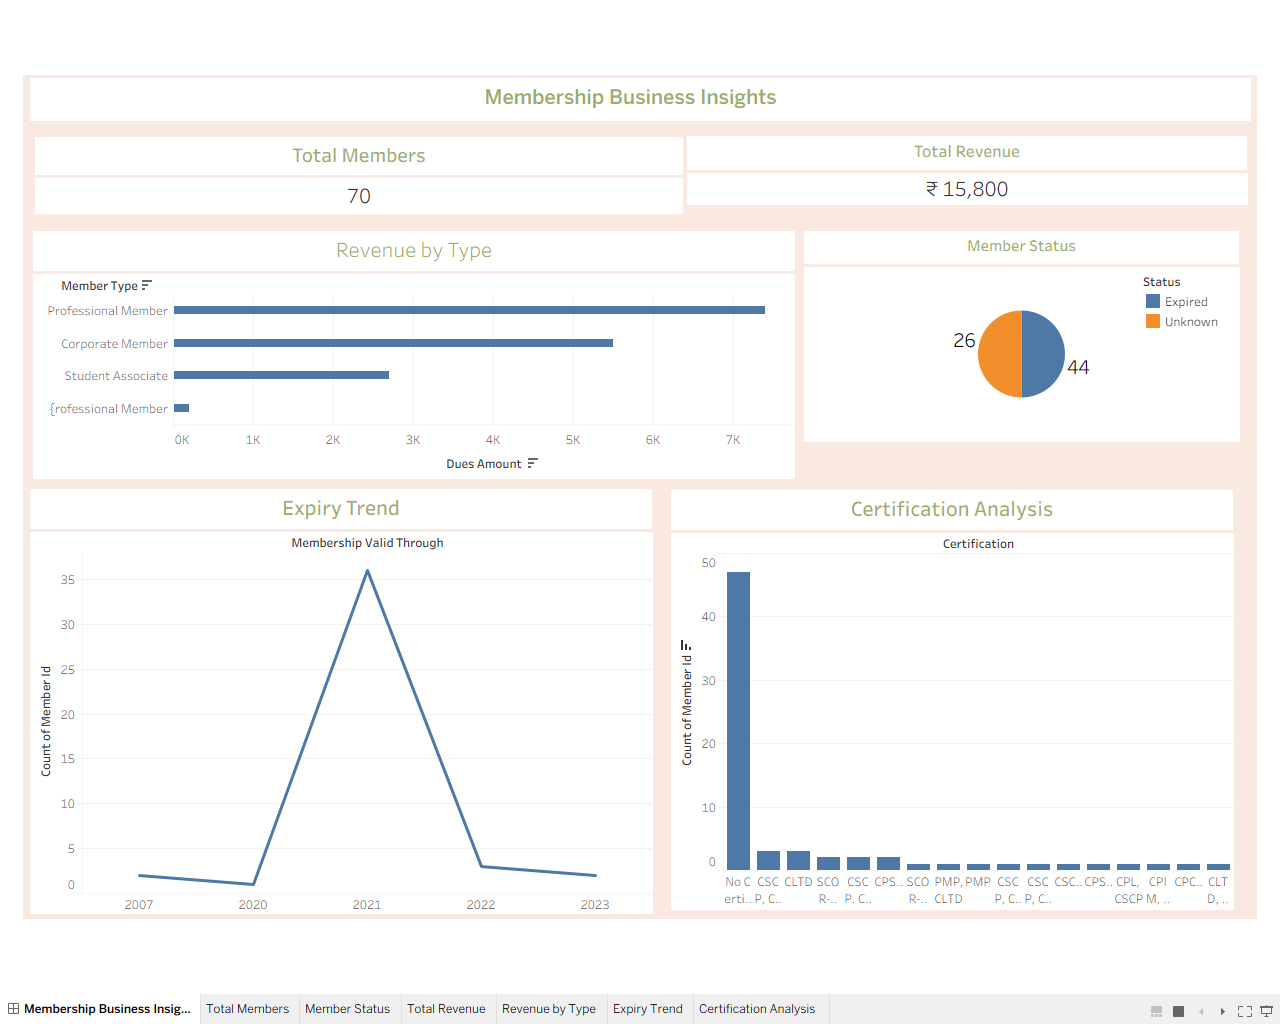

The dashboard page shown, as its layout file describes it:
{"tool":"tableau","page":{"name":"Membership Business Insights Dashboard","canvas":[1000,1000],"units":"permille","ordinal":0},"visuals":[{"type":"text","box":[12.2,13,976.6,49.5]},{"type":"text","box":[373.2,17.7,278.8,35.4]},{"type":"worksheet","title":"Total Revenue","mark":"Automatic","box":[537.6,80,450.4,96.5]},{"type":"worksheet","title":"Total Members","mark":"Automatic","box":[16,81.4,518.4,89.7]},{"type":"worksheet","title":"Member Status","mark":"Pie","box":[631.2,190.3,348.8,292.4]},{"type":"worksheet","title":"Revenue by Type","mark":"Automatic","rows":["member_type"],"cols":["dues_amount"],"box":[14,191,609.9,288.9]},{"type":"worksheet","title":"Expiry Trend","mark":"Line","rows":["member_id"],"cols":["membership_valid_through"],"box":[12.2,490.6,501.4,494.1]},{"type":"worksheet","title":"Certification Analysis","mark":"Automatic","rows":["member_id"],"cols":["certification"],"box":[524.8,492.4,457.6,488.3]}]}

Visuals, with their boxes on the dashboard's canvas, which has no fixed pixel size, in thousandths of its width and height (x1, y1, x2, y2). These are canvas units, not pixel positions in the 1280x1024 screenshot, which may show the page scaled, cropped or inside an application window:
text: x1=12 y1=13 x2=989 y2=62
text: x1=373 y1=18 x2=652 y2=53
"Total Revenue" worksheet: x1=538 y1=80 x2=988 y2=176
"Total Members" worksheet: x1=16 y1=81 x2=534 y2=171
"Member Status" worksheet (Pie marks): x1=631 y1=190 x2=980 y2=483
"Revenue by Type" worksheet: x1=14 y1=191 x2=624 y2=480
"Expiry Trend" worksheet (Line marks): x1=12 y1=491 x2=514 y2=985
"Certification Analysis" worksheet: x1=525 y1=492 x2=982 y2=981
